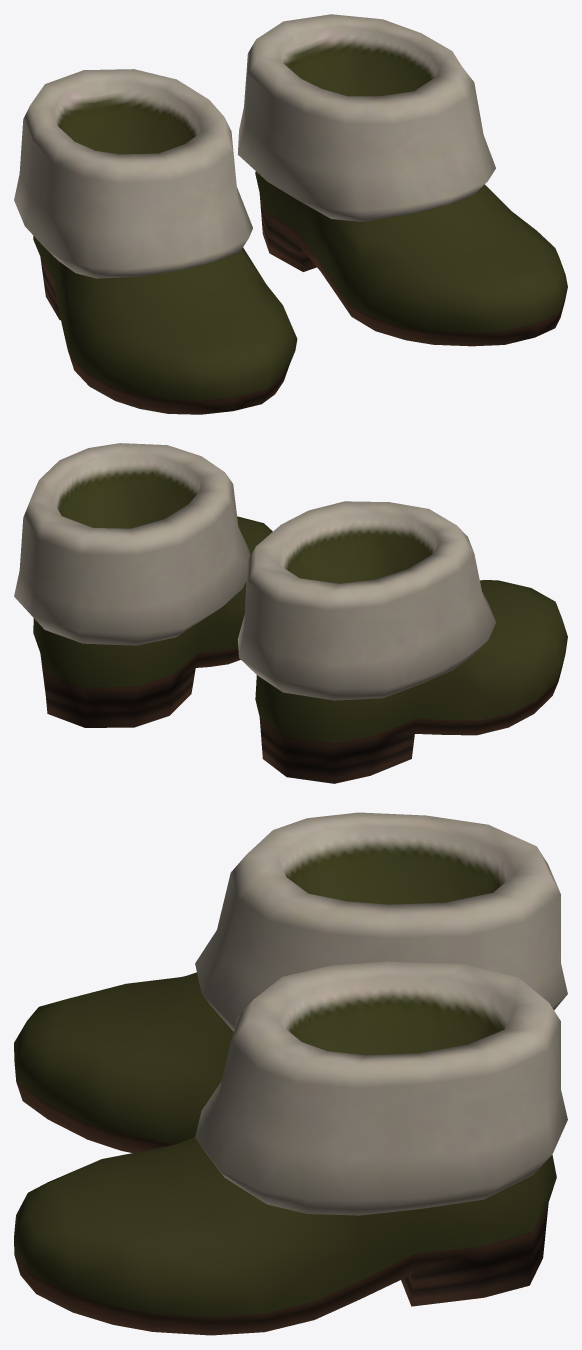
Rendered from ShoesHighcutFurboots0.glb.
3 renders of one model, top to bottom at view 1: azimuth 30°, elevation 25°; view 2: azimuth 150°, elevation 25°; view 3: azimuth 270°, elevation 25°, orthographic. The views are drawn at different scales.
Parts seen in each view (by area): view 1: Body__mShoes; view 2: Body__mShoes; view 3: Body__mShoes.
Boxes of the visible parts, box(x1,y1,x2,y2) form: Body__mShoes: box(14, 14, 567, 414); Body__mShoes: box(14, 443, 567, 783); Body__mShoes: box(14, 812, 567, 1335).
Size of the model in its own units: 3.35 by 1.36 by 2.67.
1 material, 1 textured.
